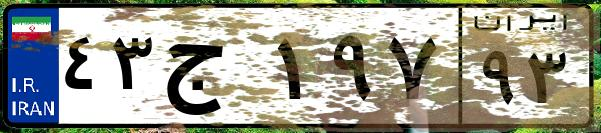1: (270, 28, 330, 110)
3: (525, 38, 570, 115), (110, 28, 158, 98)
4: (57, 26, 110, 100)
7: (385, 28, 445, 110)
9: (330, 28, 385, 110), (475, 38, 525, 113)
ج: (158, 20, 270, 120)
